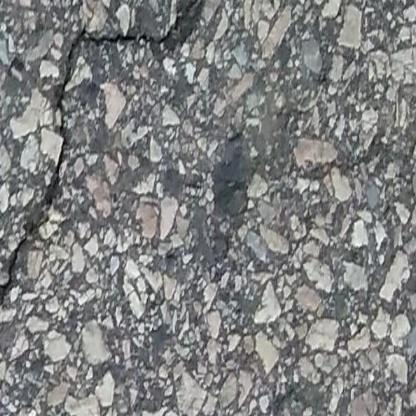Cracks: (0, 0, 207, 318)
